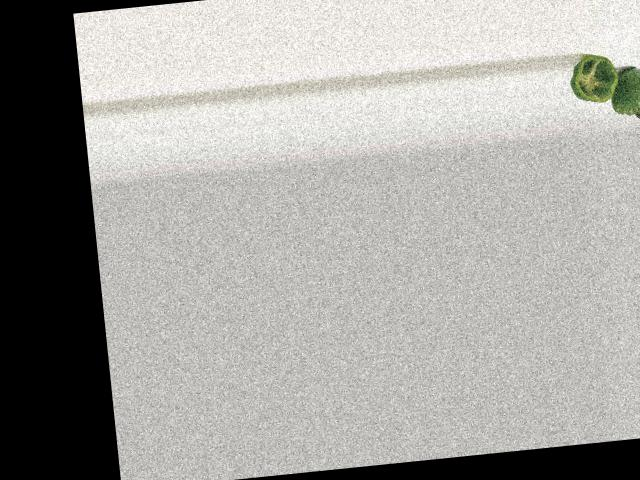bell_pepper: (565, 49, 623, 110)
